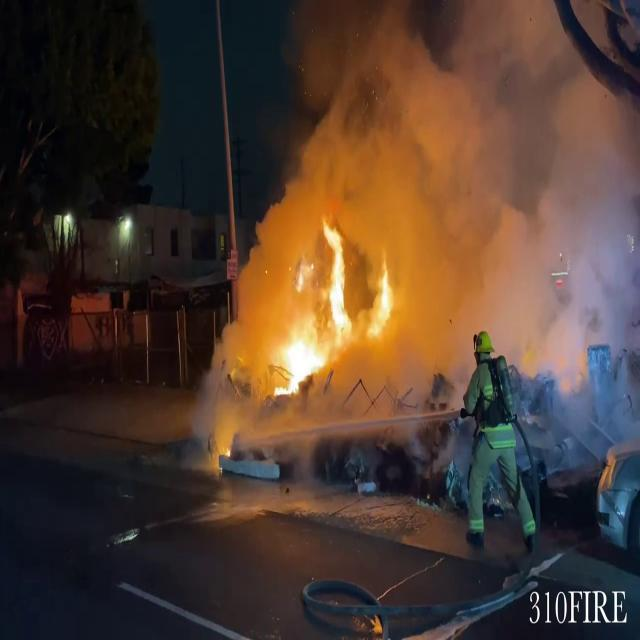Fire: (263, 210, 399, 402)
Smoke: (269, 0, 640, 443)
